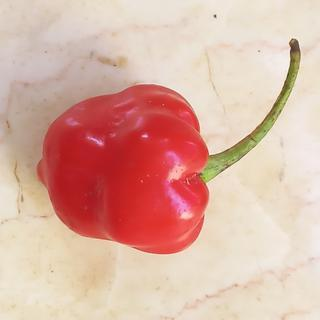Grade-B: (29, 77, 218, 258)
